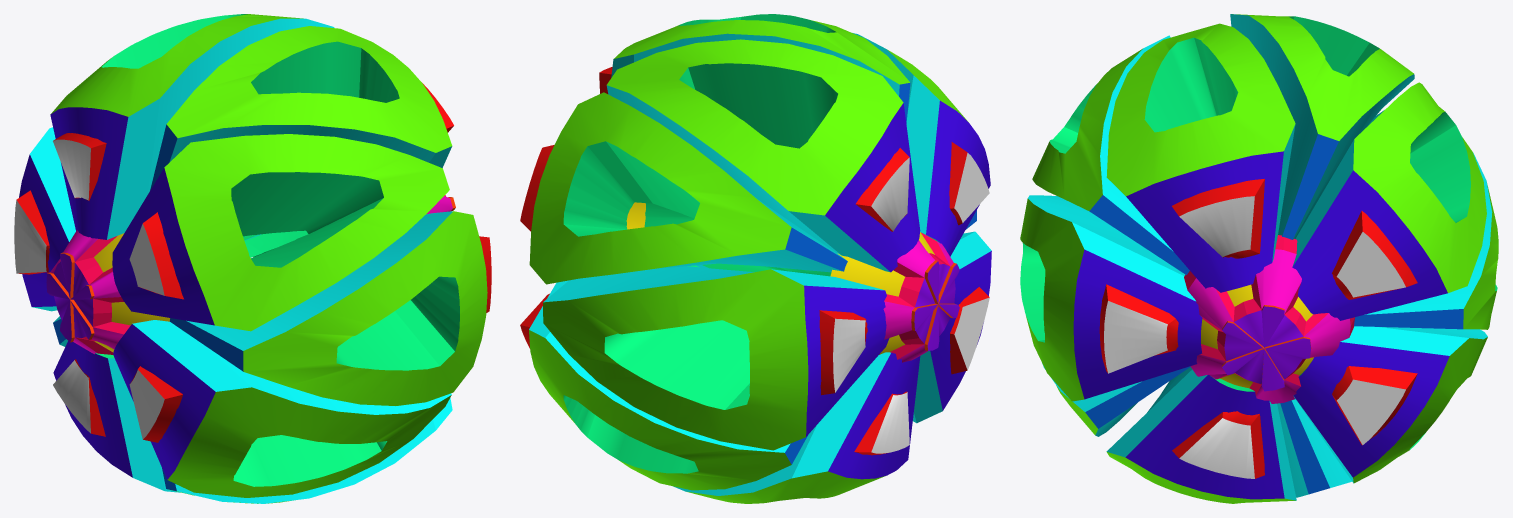
The model's file is RollingBalls_Sci-fi_3.fbx.
The picture shows the model from 3 angles, left to right: view 1: azimuth 30°, elevation 25°; view 2: azimuth 150°, elevation 25°; view 3: azimuth 270°, elevation 25°; orthographic projection.
Visible parts, largest first — view 1: RollingBalls_Sci_fi_3_1__1_; view 2: RollingBalls_Sci_fi_3_1__1_; view 3: RollingBalls_Sci_fi_3_1__1_.
Part boxes in pixels (x1,y1,x2,y2): RollingBalls_Sci_fi_3_1__1_: [14, 14, 491, 503]; RollingBalls_Sci_fi_3_1__1_: [520, 14, 991, 503]; RollingBalls_Sci_fi_3_1__1_: [1020, 14, 1498, 503].
Bounding box in the file's own units: 145 × 169 × 167.
